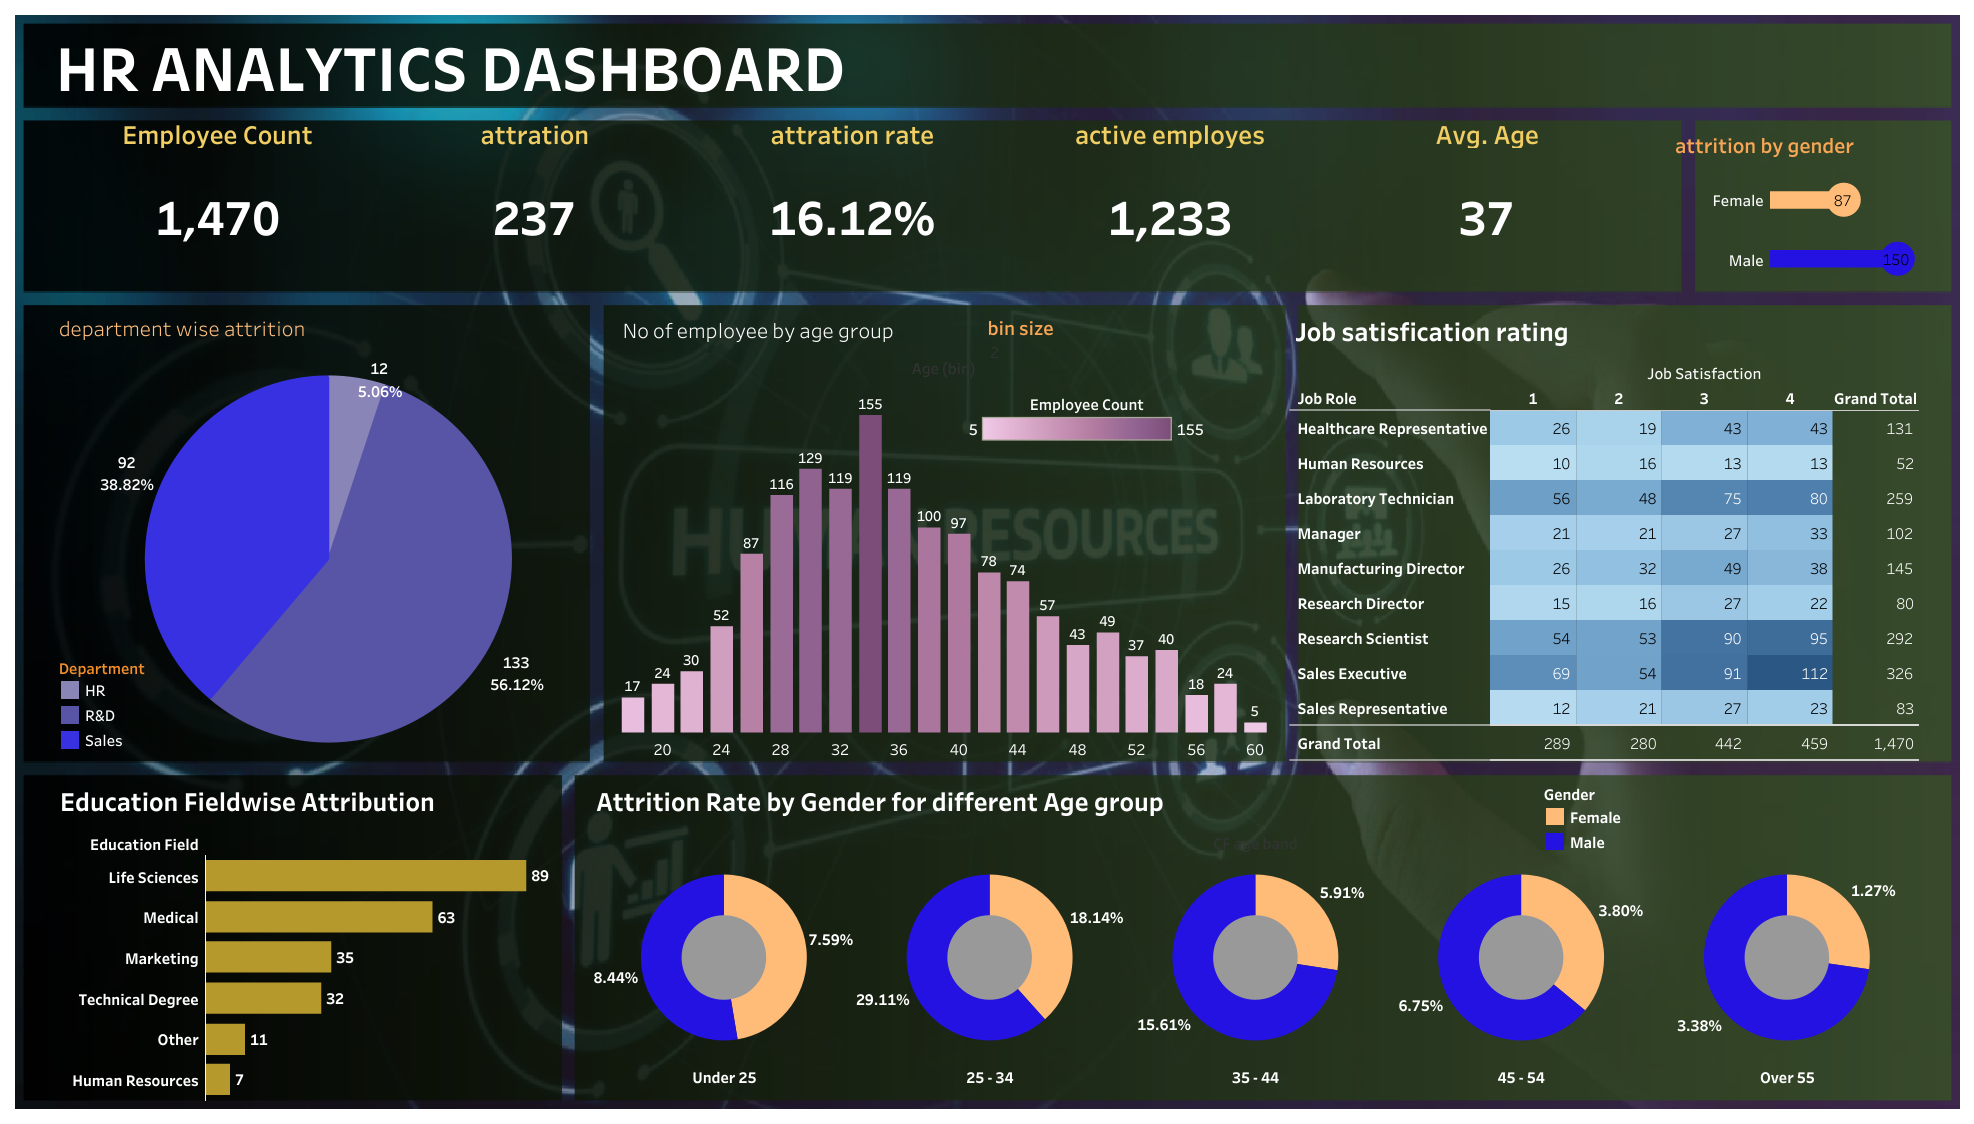

What the dashboard file says about the page in this screenshot:
{"tool":"tableau","page":{"name":"hr analytics dashboard","canvas":[1000,1000],"units":"permille","ordinal":0},"visuals":[{"type":"image","param":"Image/HR background-3.png","box":[4.8,8.8,990.3,982.4]},{"type":"text","box":[26.6,20.9,769.5,74.6]},{"type":"worksheet","title":"kpi","mark":"Automatic","box":[29.6,107.6,803.9,146]},{"type":"worksheet","title":"attrition by gender","mark":"Automatic","rows":["Gender"],"cols":["Calculation_712694651742453760","Calculation_712694651742453760"],"box":[845.5,108.7,127.3,148.2]},{"type":"worksheet","title":"department wise attrition","mark":"Pie","box":[27.2,272.2,278.2,406.2]},{"type":"worksheet","title":"Job satisfication rating","mark":"Square","rows":["Job Role"],"cols":["Job Satisfaction"],"box":[653,272.2,319.2,403.9]},{"type":"worksheet","title":"No of employee by age group","mark":"Bar","rows":["Employee Count"],"cols":["Age (bin)"],"box":[312.6,273.3,330.7,401.8]},{"type":"parameter","param":"[Parameters].[Parameter 1]","box":[499.7,277.7,138.8,50.5]},{"type":"legend","title":"No of employee by age group","param":"[federated.0oi63in0672uqv19yd6411he897x].[sum:Employee Count:qk]","box":[488.2,344.7,124.3,58.2]},{"type":"legend","title":"department wise attrition","param":"[federated.0oi63in0672uqv19yd6411he897x].[none:Department:nk]","box":[29,580.7,84.5,93.3]},{"type":"worksheet","title":"Education Fieldwise Attribution","mark":"Automatic","rows":["Education Field"],"cols":["Calculation_712694651742453760"],"box":[27.8,690.5,262.5,287.6]},{"type":"worksheet","title":"Attrition Rate by Gender for different Age group","mark":"Pie","rows":["Calculation_712694651929174020","Calculation_712694651929174020"],"cols":["CF_age band"],"box":[299.3,690.5,672.9,294.2]},{"type":"legend","title":"Attrition Rate by Gender for different Age group","param":"[federated.0oi63in0672uqv19yd6411he897x].[none:Gender:nk]","box":[780.9,693.7,84.5,70.2]}]}

Visuals, with their boxes on the dashboard's canvas, which has no fixed pixel size, in thousandths of its width and height (x1, y1, x2, y2). These are canvas units, not pixel positions in the 1974x1124 screenshot, which may show the page scaled, cropped or inside an application window:
image: left=5, top=9, right=995, bottom=991
text: left=27, top=21, right=796, bottom=96
"kpi" worksheet: left=30, top=108, right=834, bottom=254
"attrition by gender" worksheet: left=846, top=109, right=973, bottom=257
"department wise attrition" worksheet (Pie marks): left=27, top=272, right=305, bottom=678
"Job satisfication rating" worksheet (Square marks): left=653, top=272, right=972, bottom=676
"No of employee by age group" worksheet (Bar marks): left=313, top=273, right=643, bottom=675
parameter: left=500, top=278, right=638, bottom=328
"No of employee by age group" legend: left=488, top=345, right=612, bottom=403
"department wise attrition" legend: left=29, top=581, right=114, bottom=674
"Education Fieldwise Attribution" worksheet: left=28, top=690, right=290, bottom=978
"Attrition Rate by Gender for different Age group" worksheet (Pie marks): left=299, top=690, right=972, bottom=985
"Attrition Rate by Gender for different Age group" legend: left=781, top=694, right=865, bottom=764
